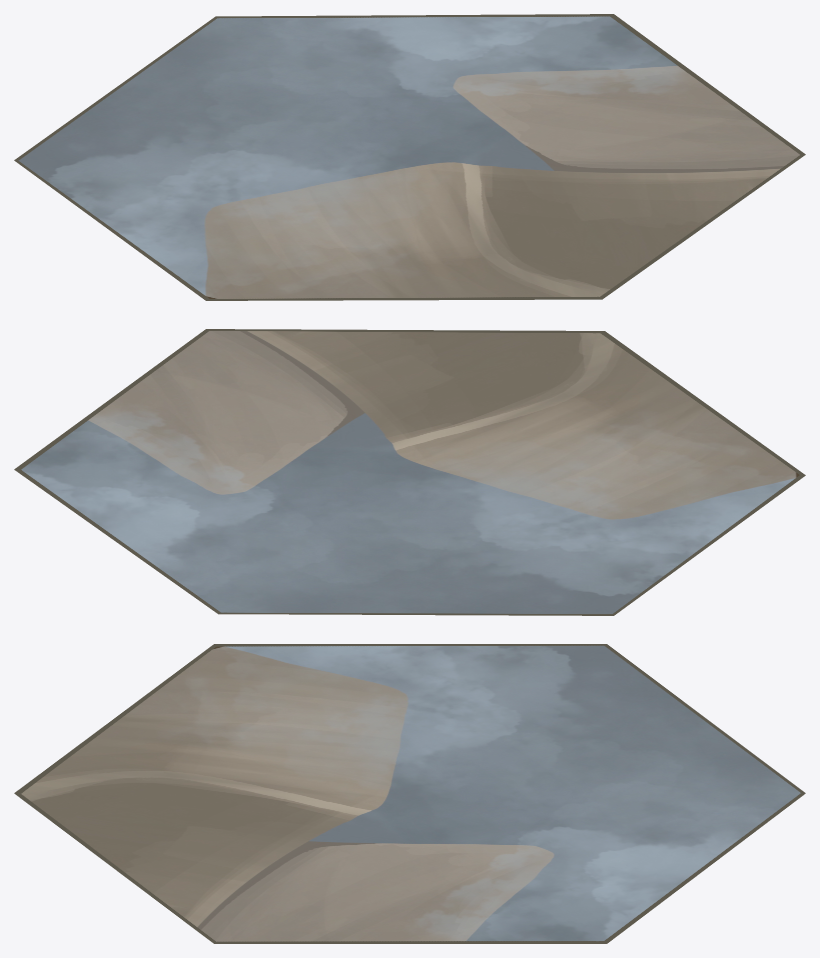
File: MountainTile.fbx
3 renders of one model, top to bottom at view 1: azimuth 30°, elevation 25°; view 2: azimuth 150°, elevation 25°; view 3: azimuth 270°, elevation 25°, orthographic. The views are drawn at different scales.
Visible parts, largest first — view 1: Plane; view 2: Plane; view 3: Plane.
Boxes of the visible parts, x1,y1,x2,y2 form: Plane: [14, 14, 805, 300]; Plane: [14, 329, 805, 615]; Plane: [14, 644, 805, 943].
Bounding box in the file's own units: 179 × 3.26e-05 × 200.
1 material, 1 textured.
